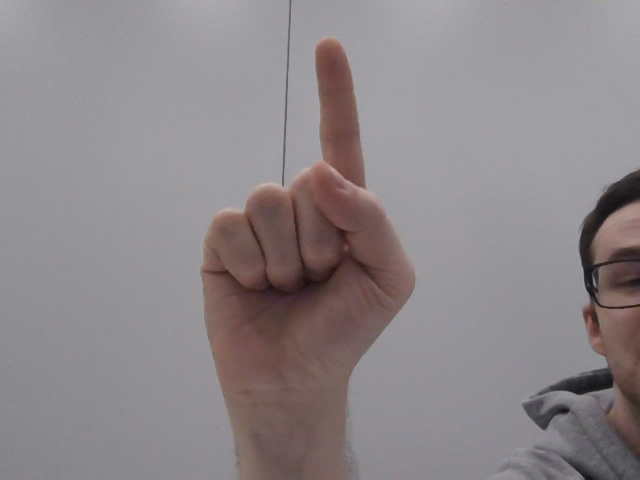up: (179, 26, 437, 419)
